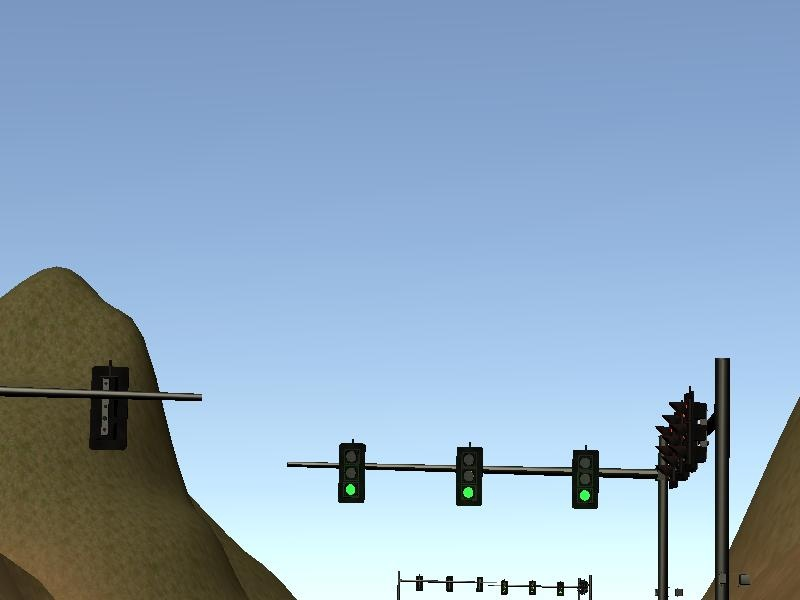traffic_light_green: (303, 437, 658, 513)
